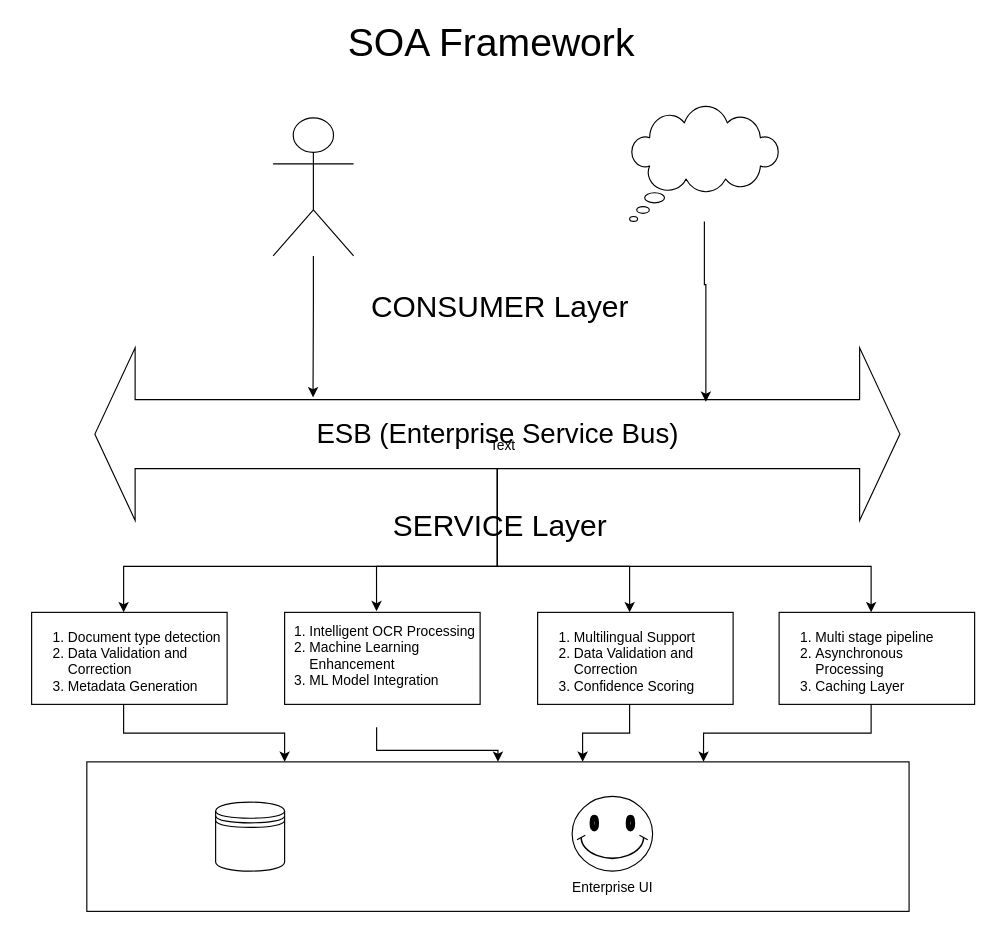
The diagram is 995 pixels wide and 932 high, and some of its shapes have lost their labels. Here are the shapes that lost their labels. From the top down, the centre of each, then its label:
At [703,163]: "Cloud Employee".
At [313,186]: "Physical Employee".
At [249,836]: "Database".
